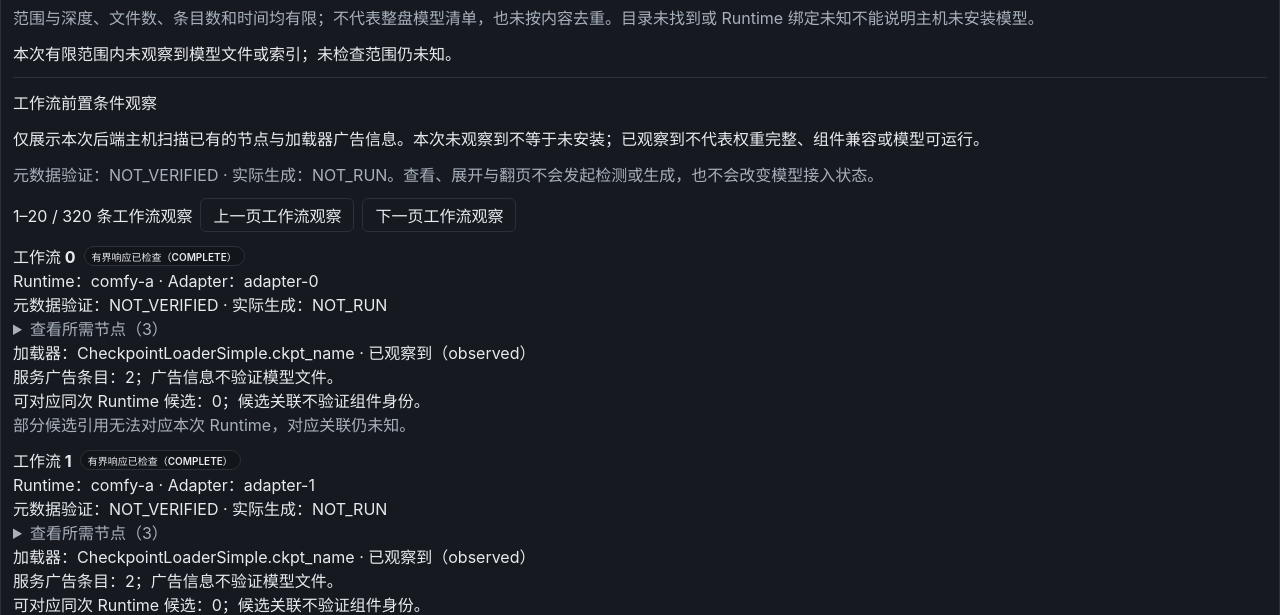
Test: read-only same-scan workflow prerequisite evidence › pages the bounded workflow and component declarations locally without probes
The width and height of the screenshot is (1280, 615).
(page scrolled)
What coordinates should you click on to do the following:
click the button "下一页工作流观察"
I would click on:
 (439, 215)
Its box is [362, 198, 516, 232].
(page scrolled)
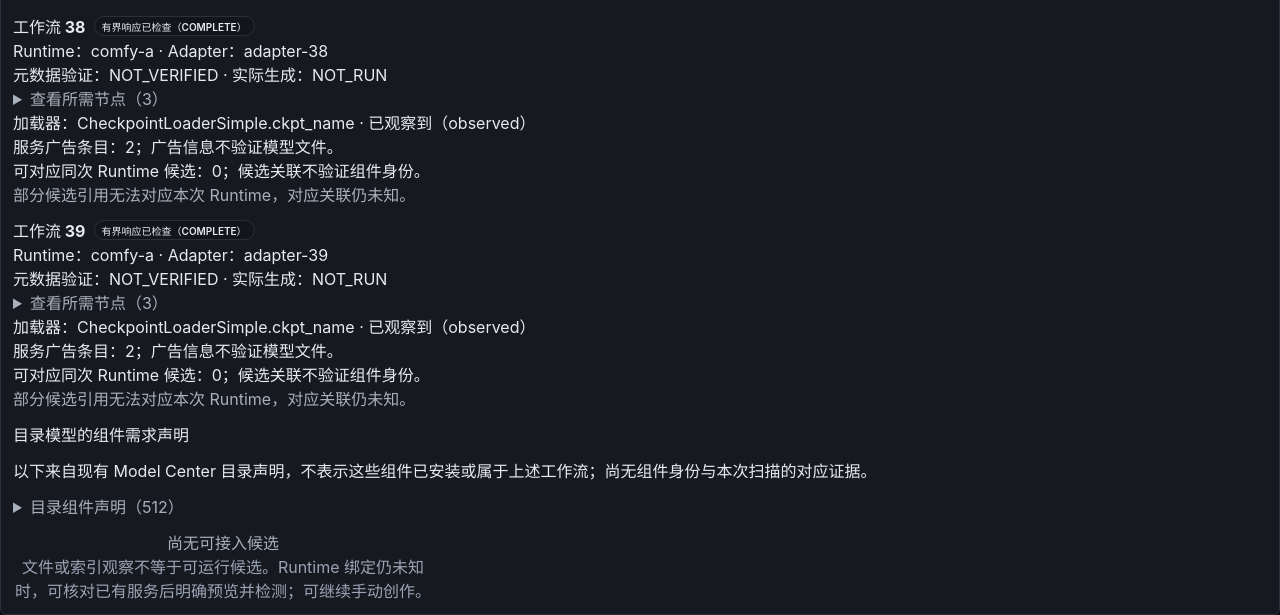
What coordinates should you click on to do the following:
click the heading "目录组件声明（512）"
I would click on:
 (107, 507)
Its box is [30, 497, 184, 517].
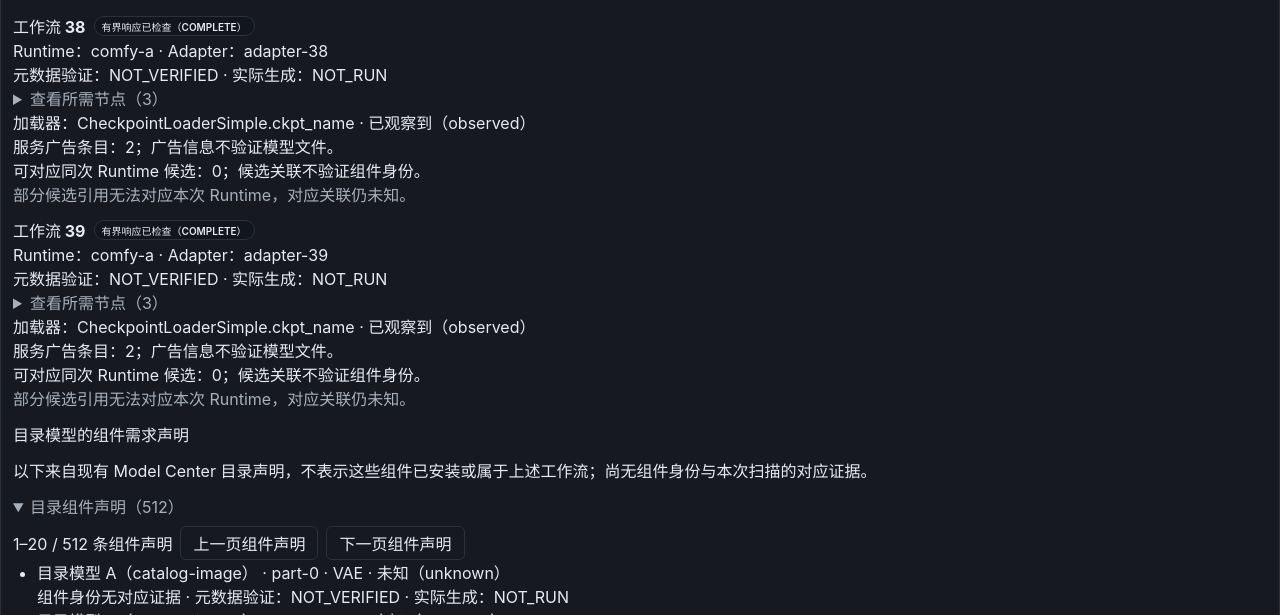
What coordinates should you click on to do the following:
click the button "下一页组件声明"
I would click on:
 (396, 543)
Its box is [326, 526, 464, 560].
(page scrolled)
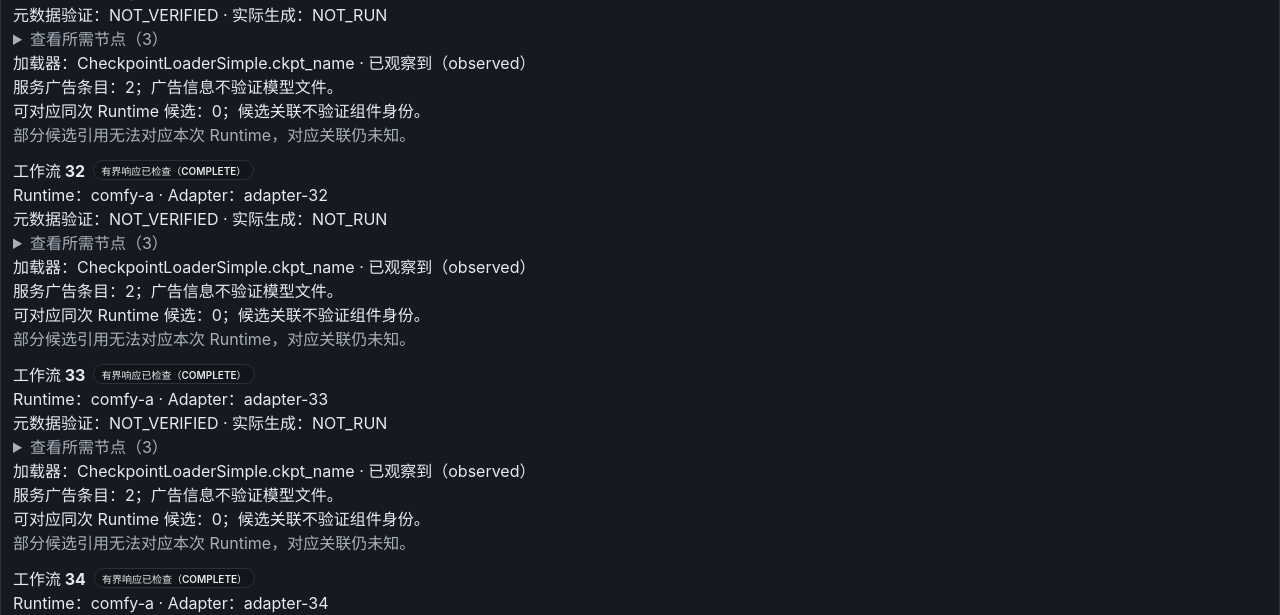
expect the list item "本次扫描的工作流前置条件观察" no longer shows "part-0 ·": met
